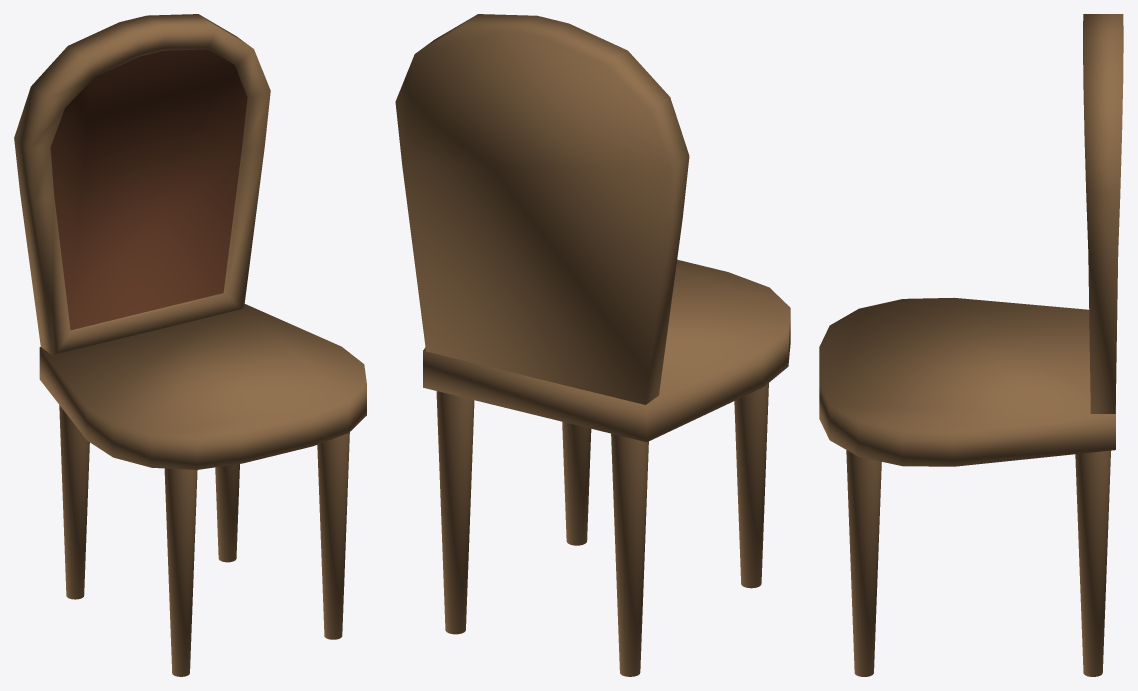
The model's file is Chair.glb.
The picture shows the model from 3 angles, left to right: view 1: azimuth 30°, elevation 25°; view 2: azimuth 150°, elevation 25°; view 3: azimuth 270°, elevation 25°; orthographic projection. The views are drawn at different scales.
Parts seen in each view (by area): view 1: Plane.005; view 2: Plane.005; view 3: Plane.005.
Boxes of the visible parts, box(x1,y1,x2,y2) form: Plane.005: box(14, 14, 366, 676); Plane.005: box(395, 14, 790, 676); Plane.005: box(819, 14, 1123, 676).
Size of the model in its own units: 0.6049 by 1.25 by 0.5793.
